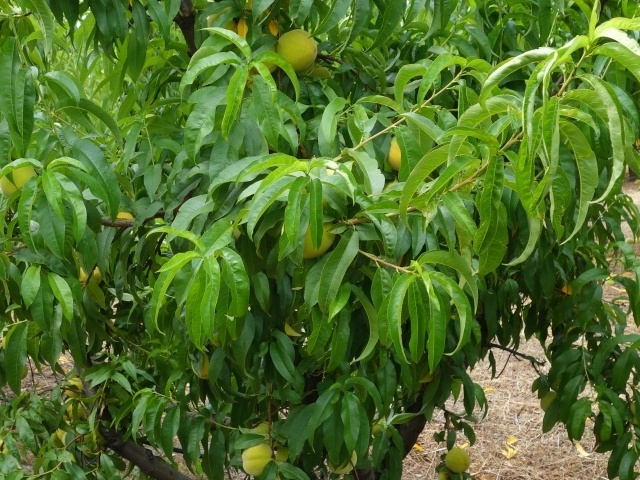peach: (298, 213, 341, 267), (274, 26, 320, 73), (1, 158, 41, 202), (239, 440, 278, 479), (380, 132, 410, 179), (443, 444, 473, 473), (187, 356, 215, 387), (536, 386, 558, 413)
